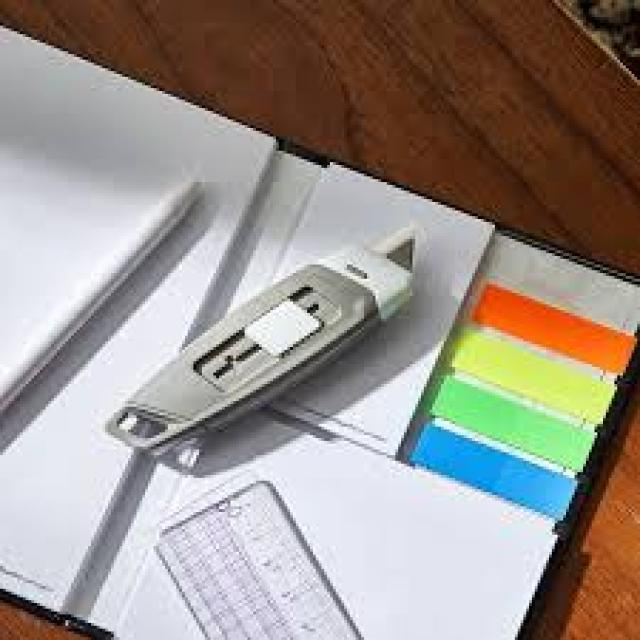cutter: (95, 218, 438, 463)
